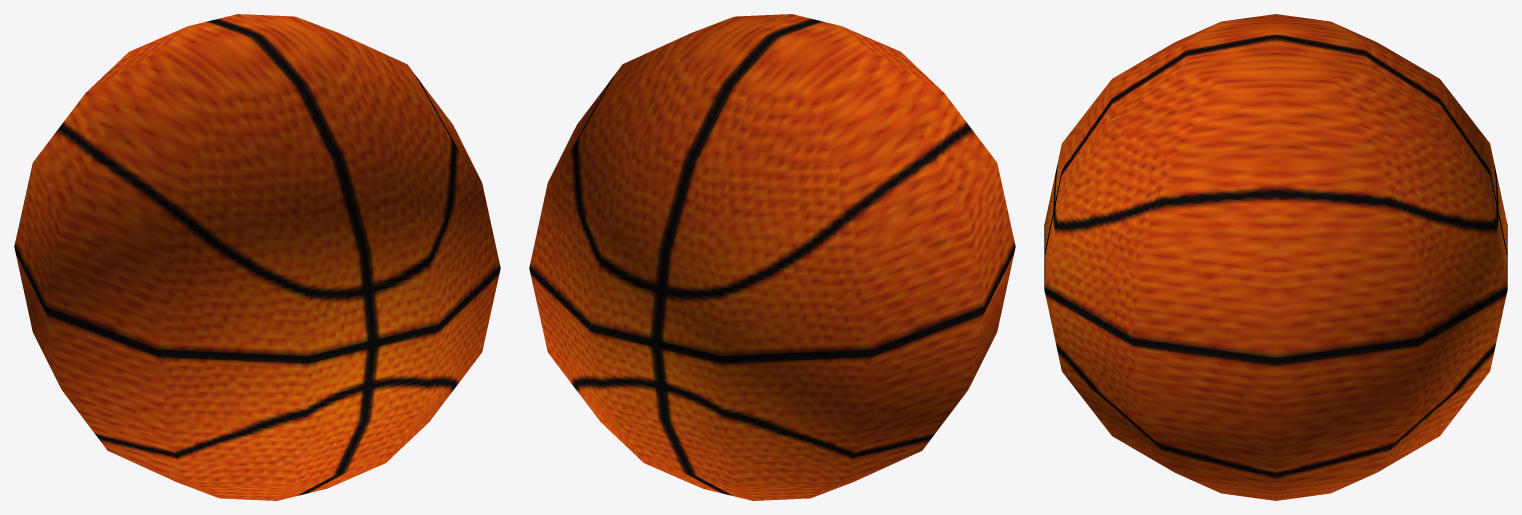
Rendered from byb.ico.obj.
3 renders of one model, left to right at view 1: azimuth 30°, elevation 25°; view 2: azimuth 150°, elevation 25°; view 3: azimuth 270°, elevation 25°, orthographic.
Bounding box in the file's own units: 4.25 × 4.25 × 4.04.
1 material, 1 textured.
